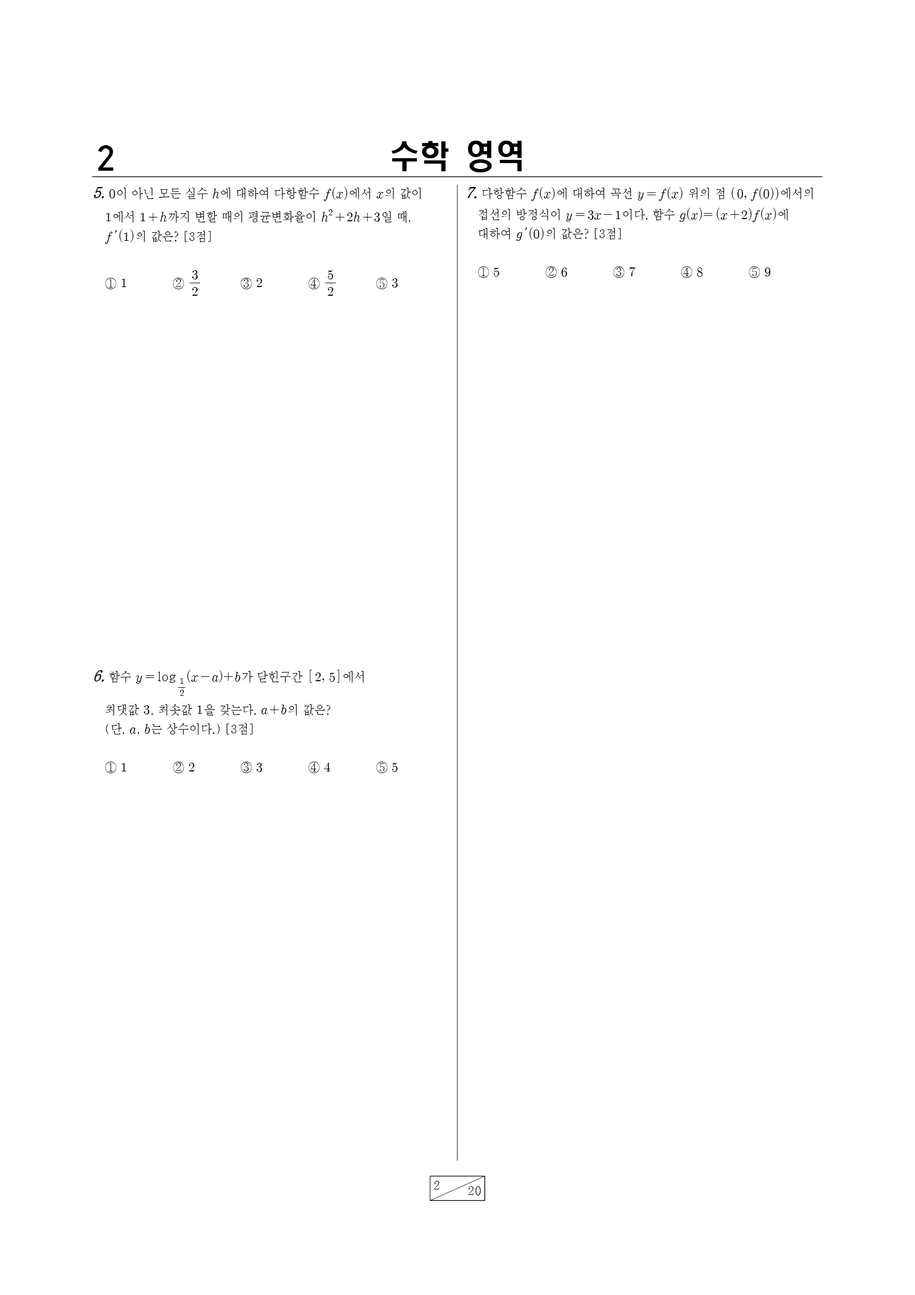opt_1: (103, 274, 119, 290), (104, 758, 118, 774), (478, 265, 490, 278)
opt_2: (172, 276, 184, 290), (545, 265, 557, 278), (172, 760, 184, 773)
opt_3: (240, 276, 253, 290), (612, 265, 624, 279), (240, 761, 252, 773)
opt_4: (680, 265, 693, 278), (308, 276, 320, 290), (309, 760, 319, 773)
opt_5: (748, 264, 761, 278), (375, 276, 387, 290), (375, 761, 387, 773)
